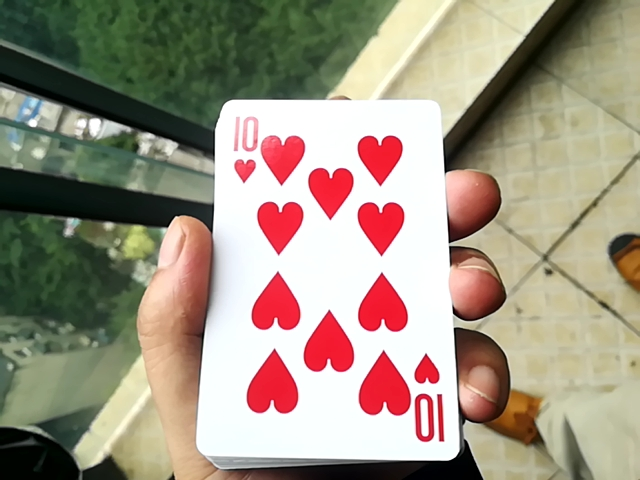hx 10: (194, 86, 449, 458)
